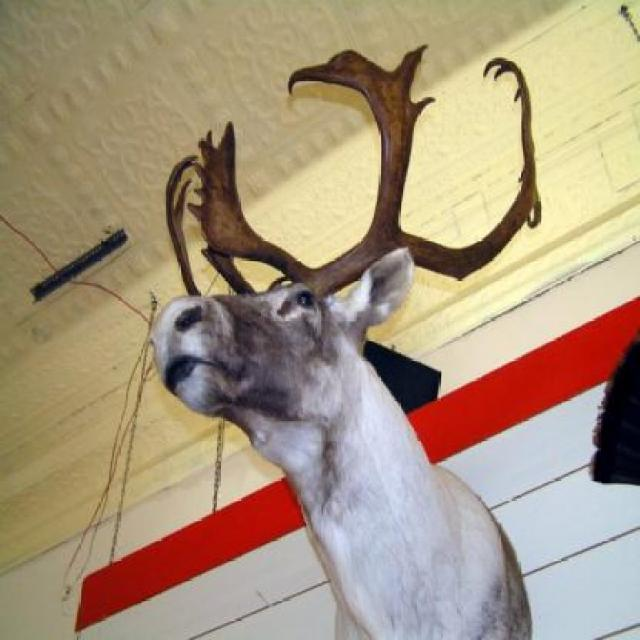Deer: (148, 44, 541, 639)
